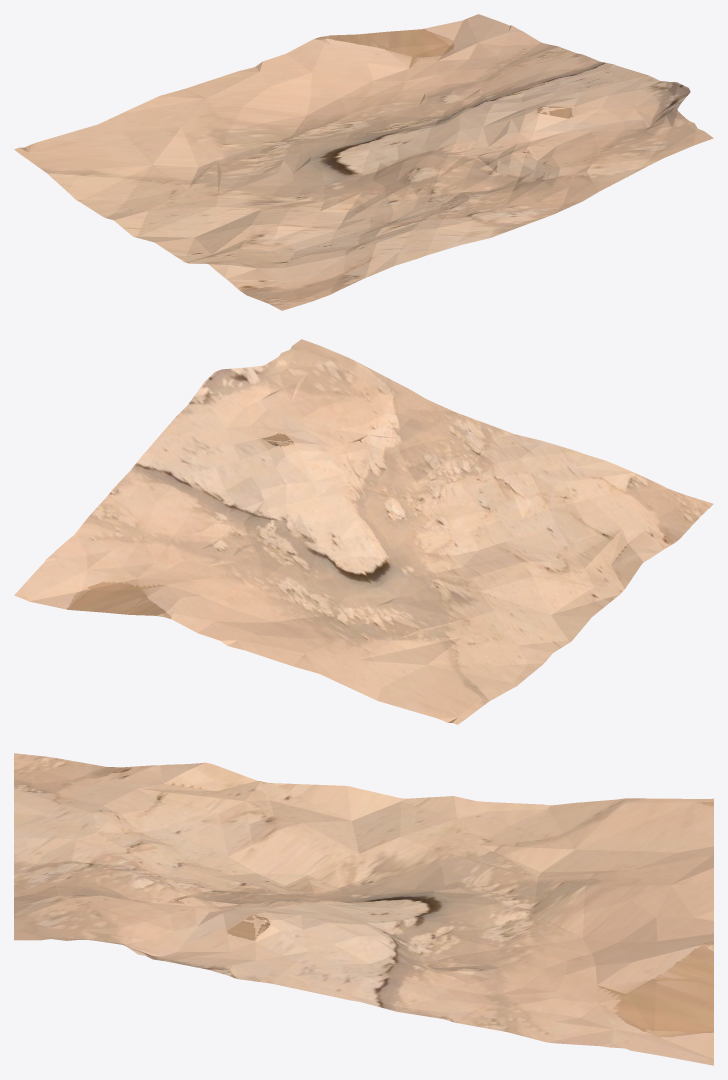
The picture shows the model from 3 angles, top to bottom: view 1: azimuth 30°, elevation 25°; view 2: azimuth 150°, elevation 25°; view 3: azimuth 270°, elevation 25°; orthographic projection. The views are drawn at different scales.
Bounding box in the file's own units: 1.04 × 0.2305 × 1.04.
2 materials, 2 textured.
